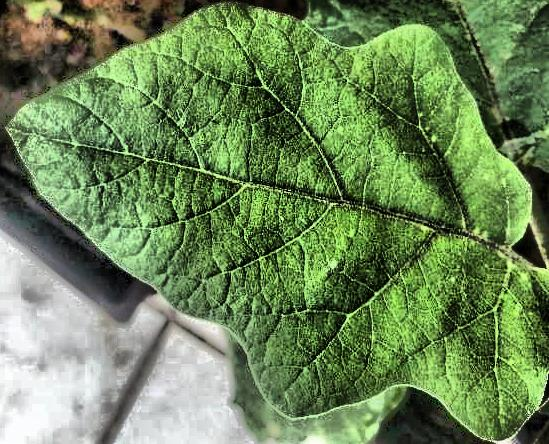HEALTHY: (1, 1, 549, 444)
